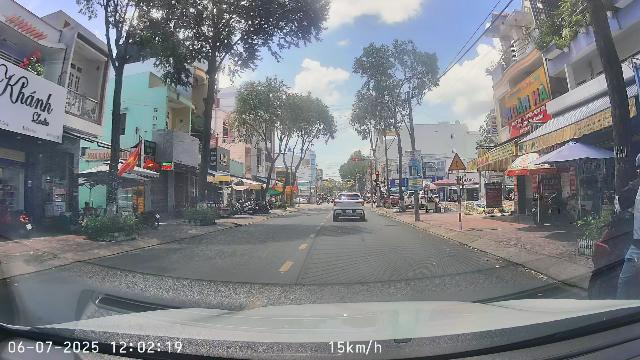209-giao-nhau-co-tin-hieu-den: (448, 153, 466, 170)
